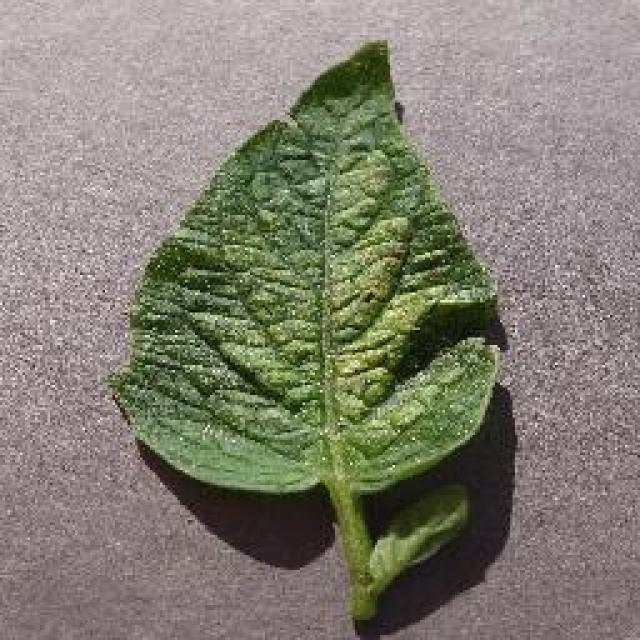Tomato___Spider_mites Two-spotted_spider_mite: (110, 42, 498, 620)
